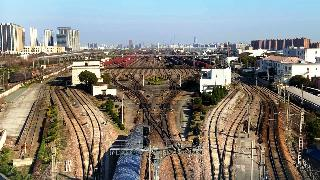train: (111, 123, 151, 180)
